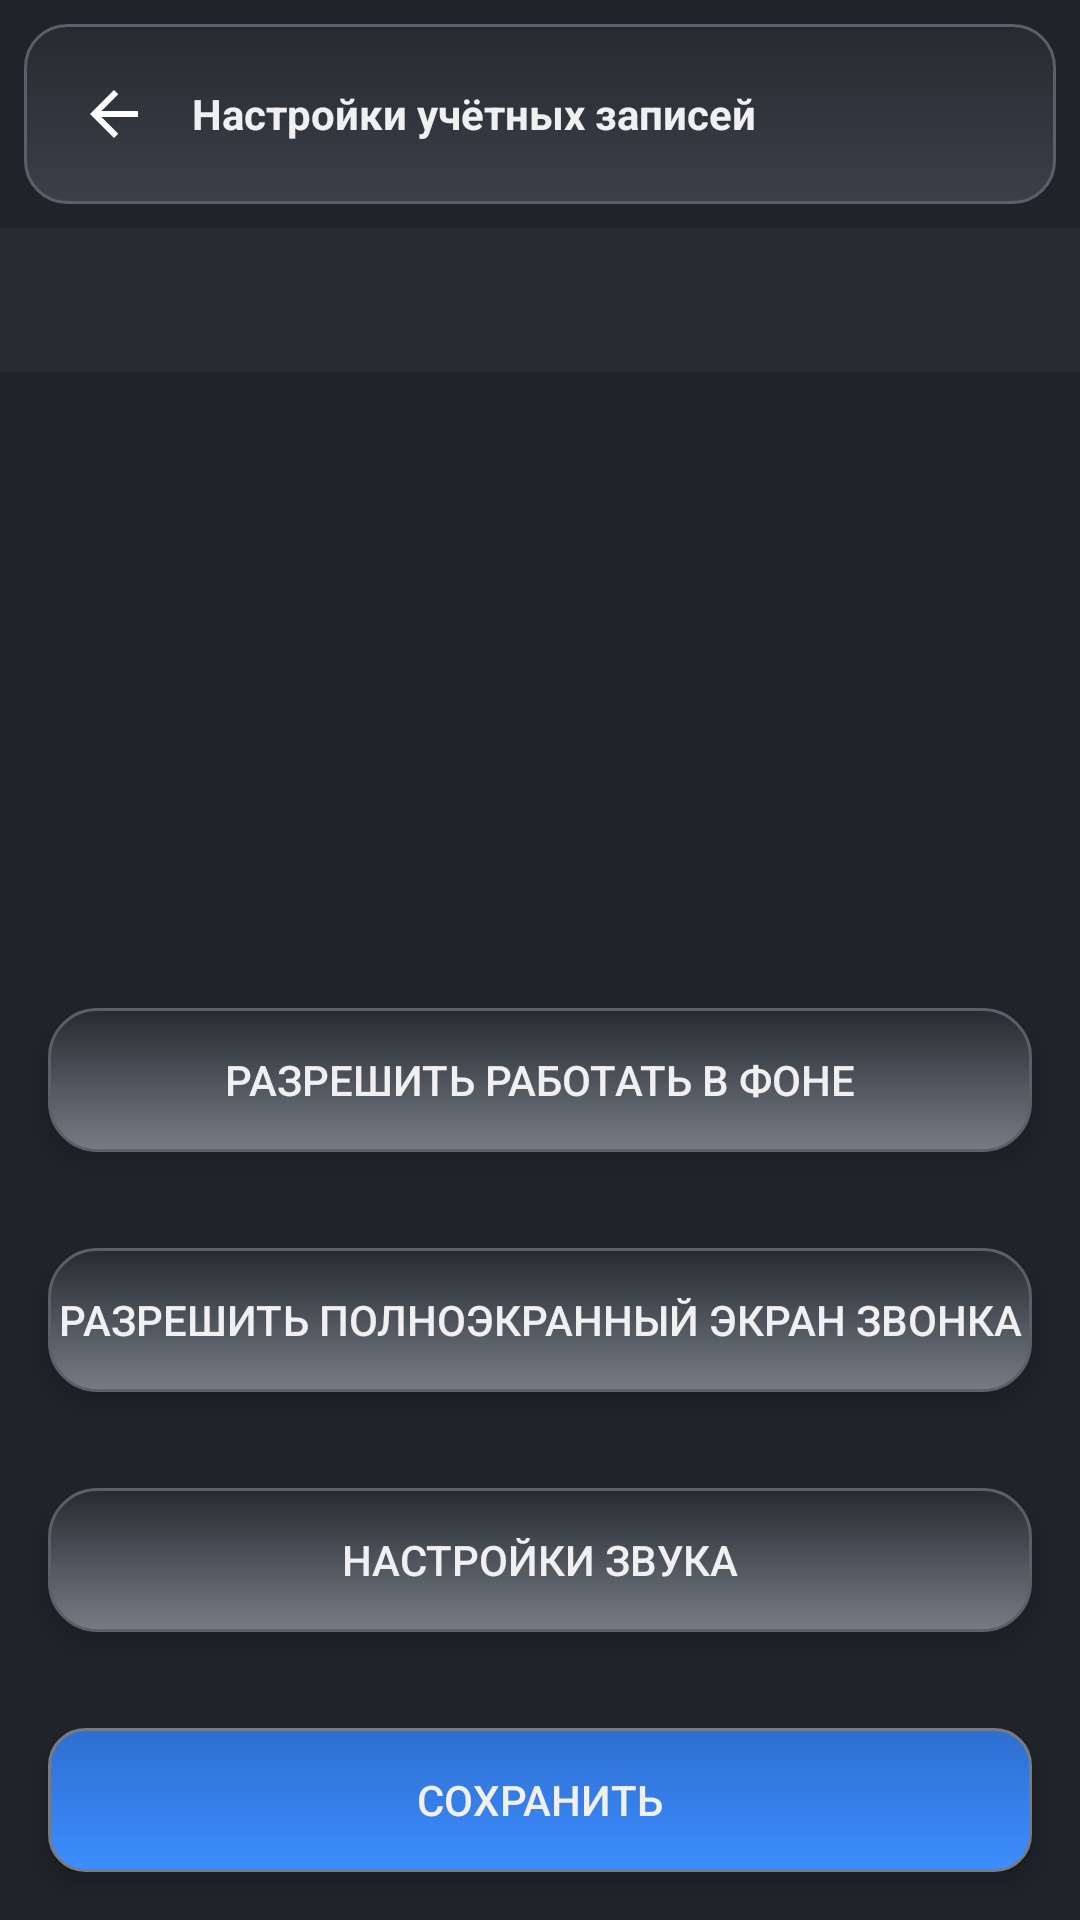

Point at icon controls on the screen. Image size 1080×1920, points as point (x, y).
Назад: point (114, 114)
